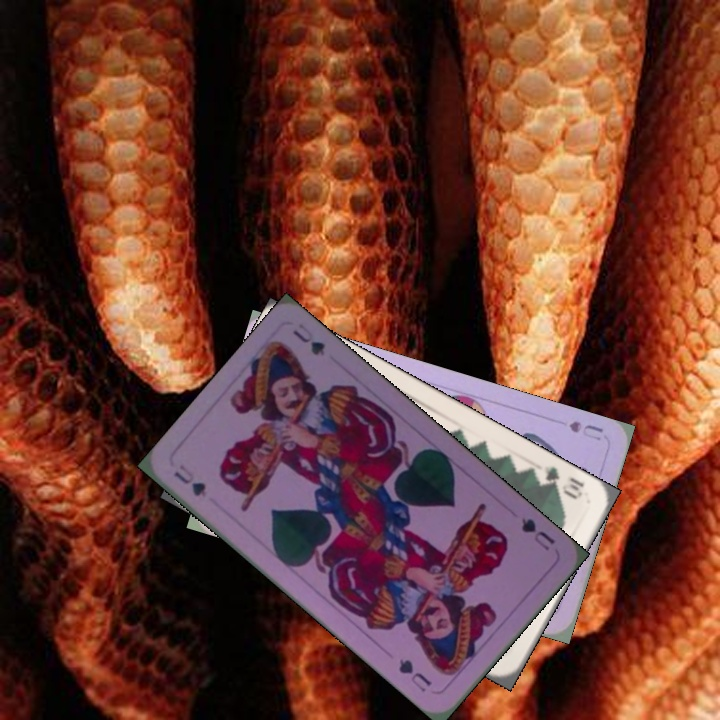G10: (531, 461, 587, 502)
GU: (517, 513, 558, 554), (169, 460, 209, 500)
SU: (565, 416, 606, 444)
